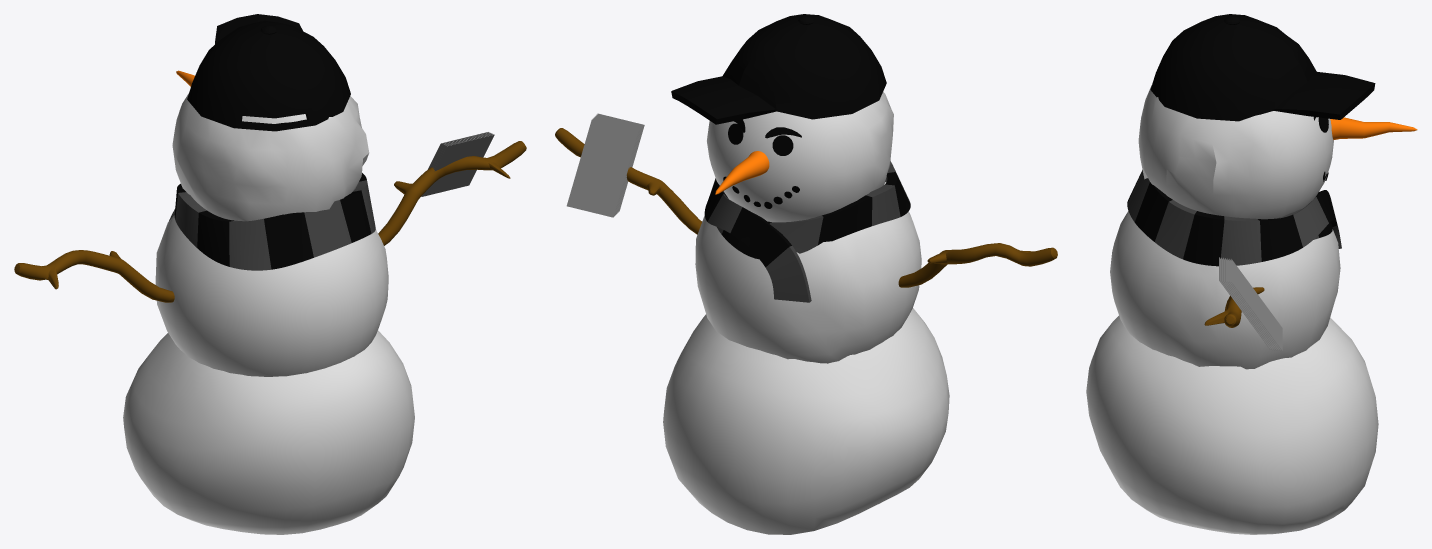
The model's file is MunecoFlyer.fbx.
3 views of the same model, side by side, from view 1: azimuth 30°, elevation 25°; view 2: azimuth 150°, elevation 25°; view 3: azimuth 270°, elevation 25° (orthographic).
Parts seen in each view (by area): view 1: Flyer; view 2: Flyer; view 3: Flyer.
Part boxes in pixels (left/top/right/bottom): Flyer: left=14, top=14, right=526, bottom=534; Flyer: left=555, top=14, right=1057, bottom=534; Flyer: left=1086, top=14, right=1417, bottom=534.
Bounding box in the file's own units: 362 × 328 × 204.
